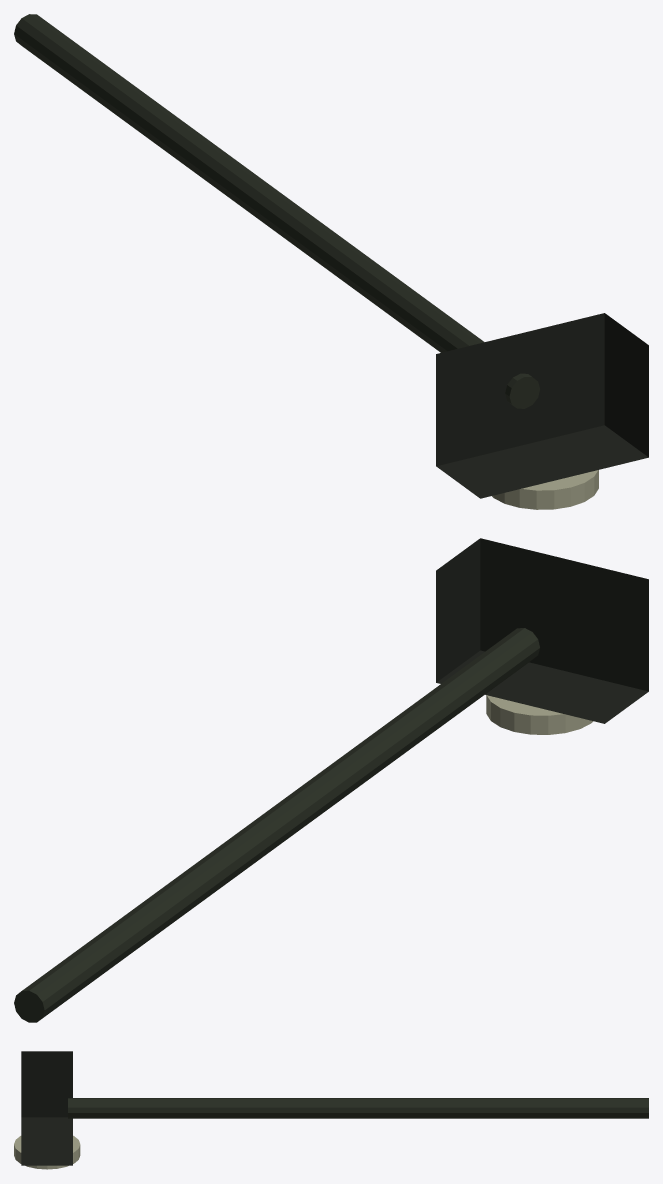
File: military_spotlight_tower.obj
3 views of the same model, one above another, from view 1: azimuth 30°, elevation 25°; view 2: azimuth 150°, elevation 25°; view 3: azimuth 270°, elevation 25° (orthographic). The views are drawn at different scales.
Parts seen in each view (by area): view 1: military_spotlight_tower; view 2: military_spotlight_tower; view 3: military_spotlight_tower.
Boxes of the visible parts, x1,y1,x2,y2 form: military_spotlight_tower: [14, 14, 648, 509]; military_spotlight_tower: [14, 538, 648, 1022]; military_spotlight_tower: [14, 1051, 648, 1169].
Size of the model in its own units: 0.55 by 0.425 by 3.06.
